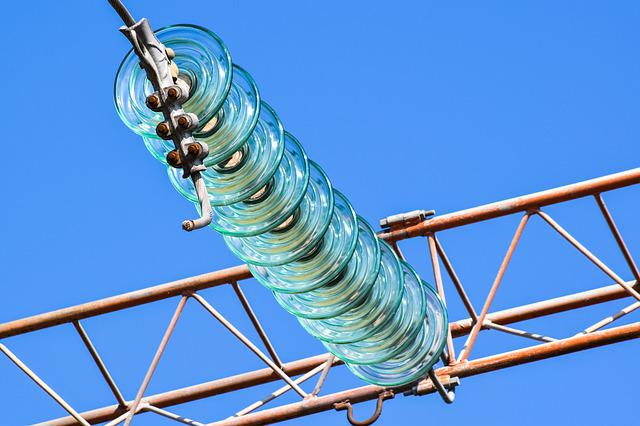isolator: (112, 23, 449, 387)
